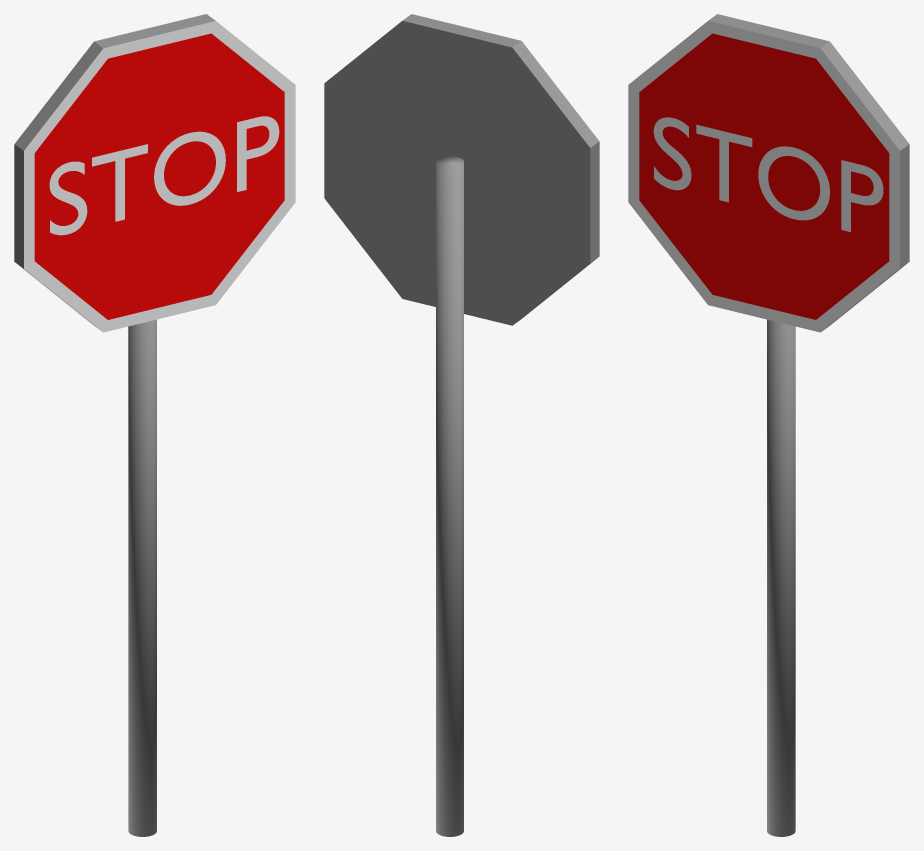
The model's file is stop_sign.dae.
3 renders of one model, left to right at view 1: azimuth 30°, elevation 25°; view 2: azimuth 150°, elevation 25°; view 3: azimuth 330°, elevation 25°, orthographic. The views are drawn at different scales.
Visible parts, largest first — view 1: Text, Cylinder; view 2: Text, Cylinder; view 3: Text, Cylinder.
Part boxes in pixels (x1,y1,x2,y2): Text: (14,14,295,332); Cylinder: (128,319,156,836); Text: (324,14,599,325); Cylinder: (436,156,463,836); Text: (628,14,909,332); Cylinder: (767,319,795,836).
Bounding box in the file's own units: 0.8315 × 0.129 × 2.37.
